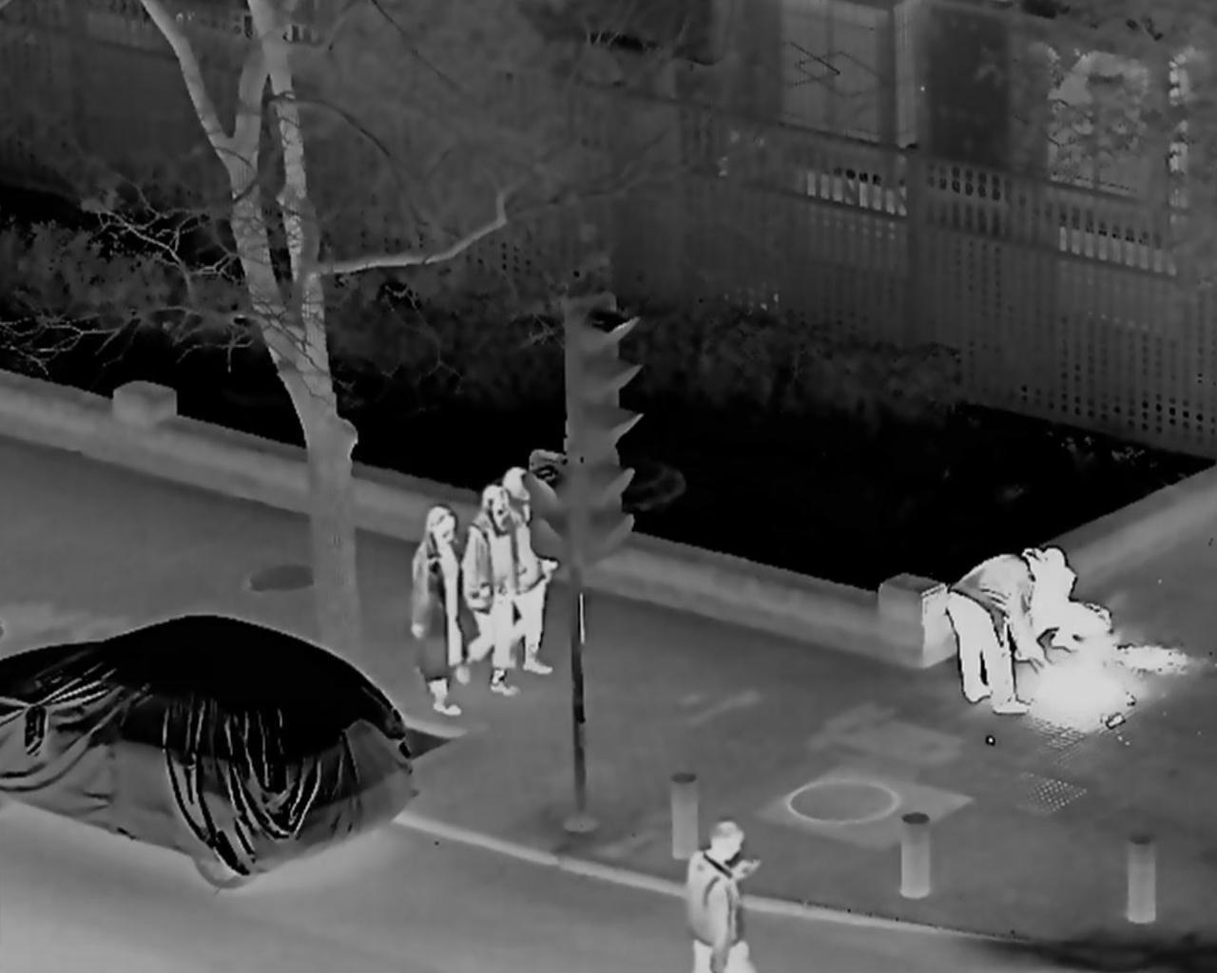person: (942, 543, 1041, 710), (490, 475, 560, 677), (401, 507, 465, 714), (455, 488, 515, 697), (1015, 542, 1115, 660), (679, 826, 750, 973)
